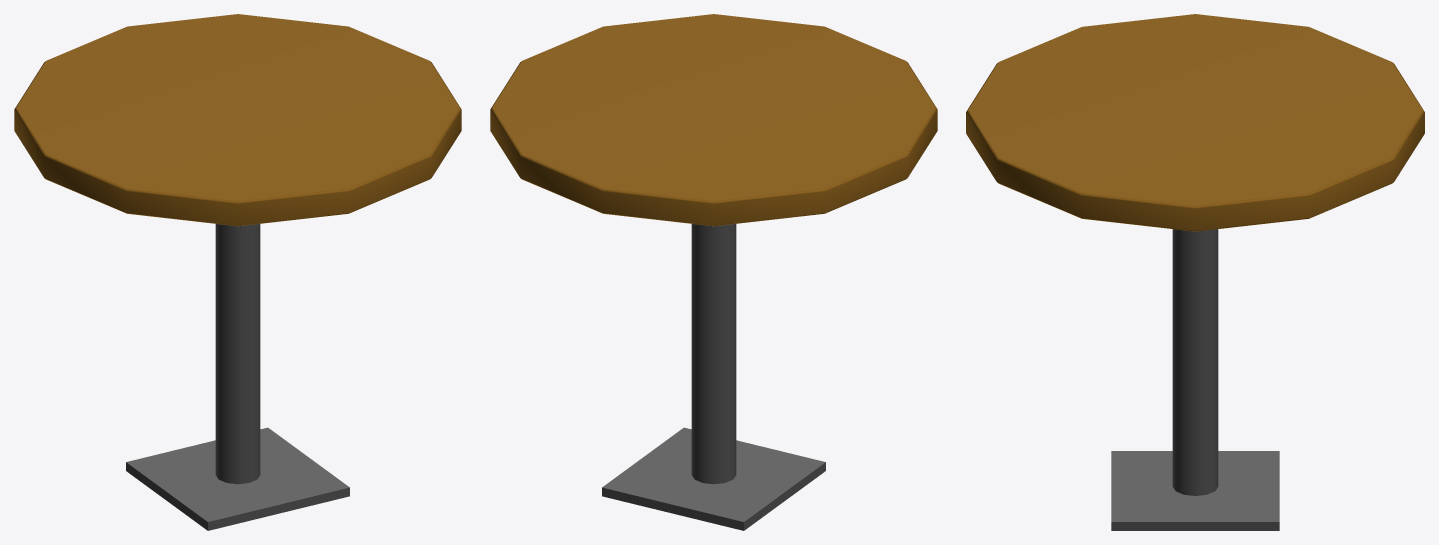
The model's file is Dining_Table02.fbx.
3 views of the same model, side by side, from view 1: azimuth 30°, elevation 25°; view 2: azimuth 150°, elevation 25°; view 3: azimuth 270°, elevation 25° (orthographic). The views are drawn at different scales.
Visible parts, largest first — view 1: Dining_Table02; view 2: Dining_Table02; view 3: Dining_Table02.
Boxes of the visible parts, <box> form: Dining_Table02: <box>14,14,461,530</box>; Dining_Table02: <box>490,14,937,530</box>; Dining_Table02: <box>966,14,1424,530</box>.
Bounding box in the file's own units: 166 × 154 × 166.
